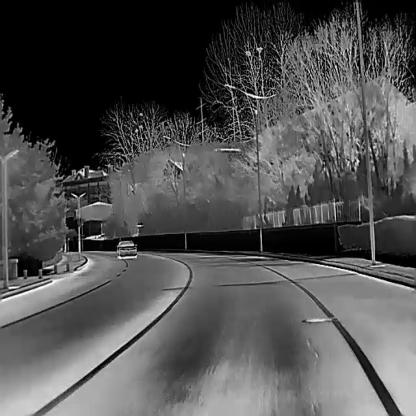car: (115, 239, 136, 257)
